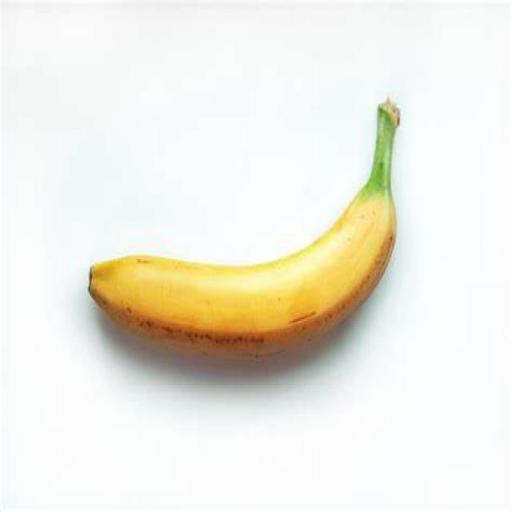fruit: (89, 99, 397, 354)
